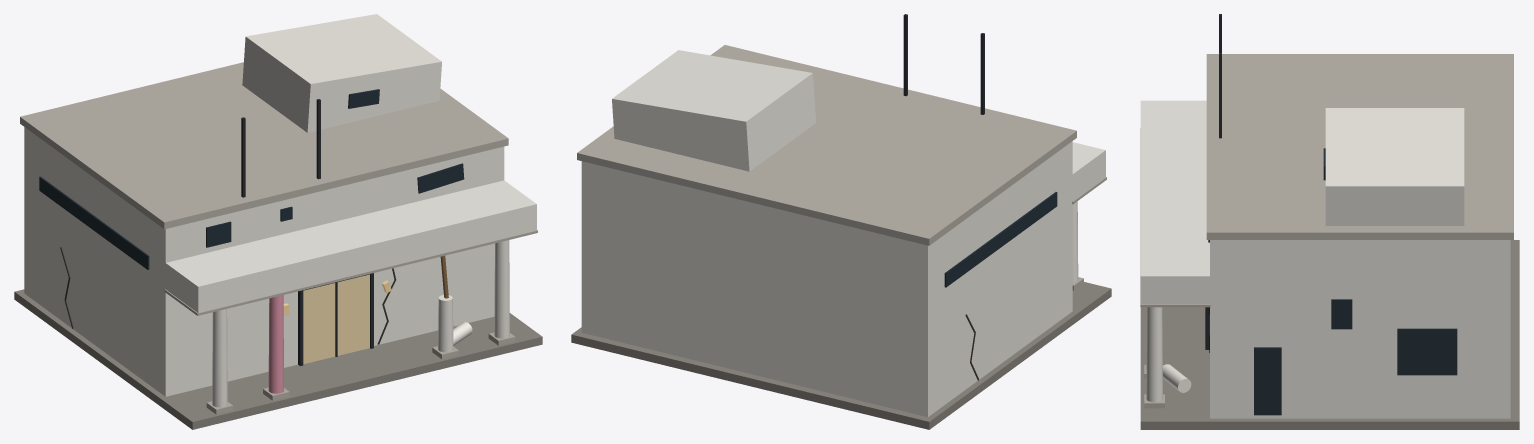
The model's file is building.glb.
3 renders of one model, left to right at view 1: azimuth 30°, elevation 25°; view 2: azimuth 150°, elevation 25°; view 3: azimuth 270°, elevation 25°, orthographic. The views are drawn at different scales.
Parts seen in each view (by area): view 1: white1, stone2, white3, white45, stoneDark0, glowInside22, glass40, white6, white14, pink10, stone4, white18 (+2 smaller); view 2: white1, stone2, white45, stoneDark0, glass40, white3; view 3: white1, stone2, white45, white3, stoneDark0, glass39, glass37, white14, glass38, white20, stone4.
Boxes of the visible parts, <box> form: white1: <box>24,127,504,396</box>; stone2: <box>20,62,508,229</box>; white3: <box>165,180,536,312</box>; white45: <box>242,14,441,132</box>; stoneDark0: <box>14,289,542,429</box>; glowInside22: <box>303,274,369,364</box>; glass40: <box>39,176,149,269</box>; white6: <box>212,309,227,407</box>; white14: <box>494,240,509,338</box>; pink10: <box>268,295,283,393</box>; stone4: <box>164,230,537,315</box>; white18: <box>438,295,453,352</box>; white1: <box>581,141,1072,416</box>; stone2: <box>577,45,1076,245</box>; white45: <box>612,50,816,171</box>; stoneDark0: <box>571,282,1111,429</box>; glass40: <box>944,192,1057,287</box>; white3: <box>1072,142,1105,200</box>; white1: <box>1210,240,1510,418</box>; stone2: <box>1206,54,1513,239</box>; white45: <box>1325,108,1464,225</box>; white3: <box>1140,100,1209,304</box>; stoneDark0: <box>1140,240,1519,429</box>; glass39: <box>1397,328,1457,375</box>; glass37: <box>1254,347,1281,415</box>; white14: <box>1146,307,1162,402</box>; glass38: <box>1331,299,1352,329</box>; white20: <box>1162,364,1191,392</box>; stone4: <box>1140,128,1210,307</box>.
Bounding box in the file's own units: 18.6 × 13.35 × 16.42.
